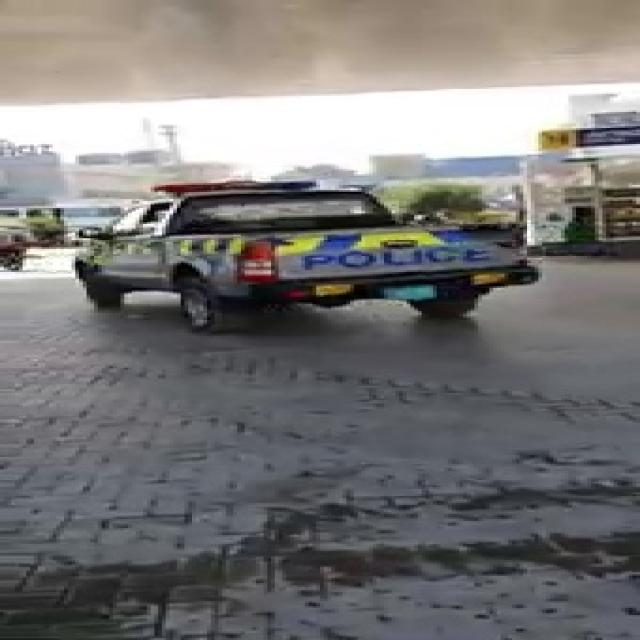police: (89, 174, 536, 324)
